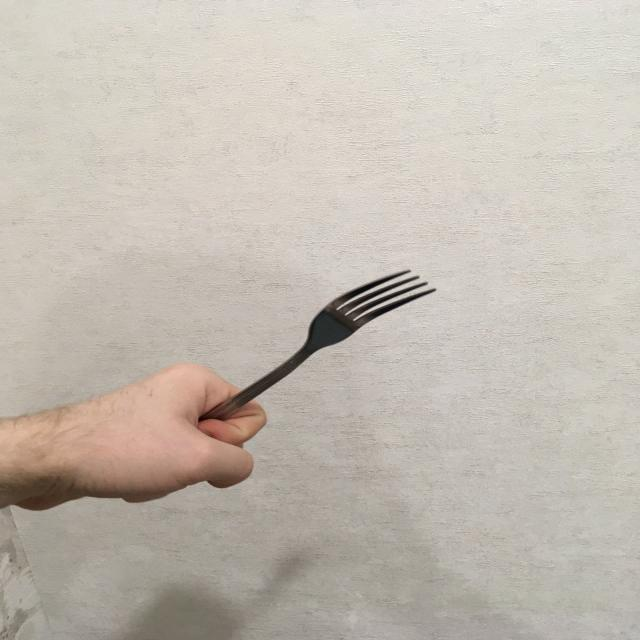fork: (139, 268, 438, 430)
